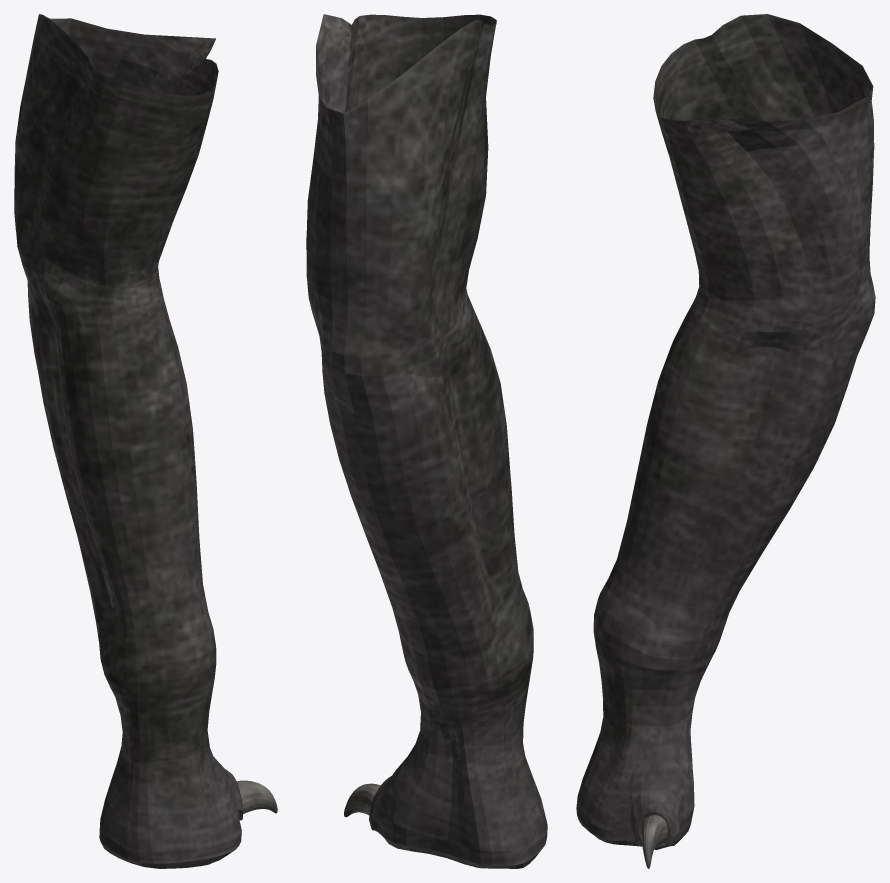
Rendered from DinoLargoPiernaDer.obj.
3 renders of one model, left to right at view 1: azimuth 30°, elevation 25°; view 2: azimuth 150°, elevation 25°; view 3: azimuth 270°, elevation 25°, orthographic. The views are drawn at different scales.
Visible parts, largest first — view 1: pierdaDer; view 2: pierdaDer; view 3: pierdaDer.
Boxes of the visible parts, x1=… form: pierdaDer: x1=14, y1=14, x2=277, y2=868; pierdaDer: x1=306, y1=14, x2=547, y2=868; pierdaDer: x1=576, y1=14, x2=875, y2=868.
Bounding box in the file's own units: 0.8237 × 3.68 × 1.28.
Materials: 2 (2 with a texture image).
